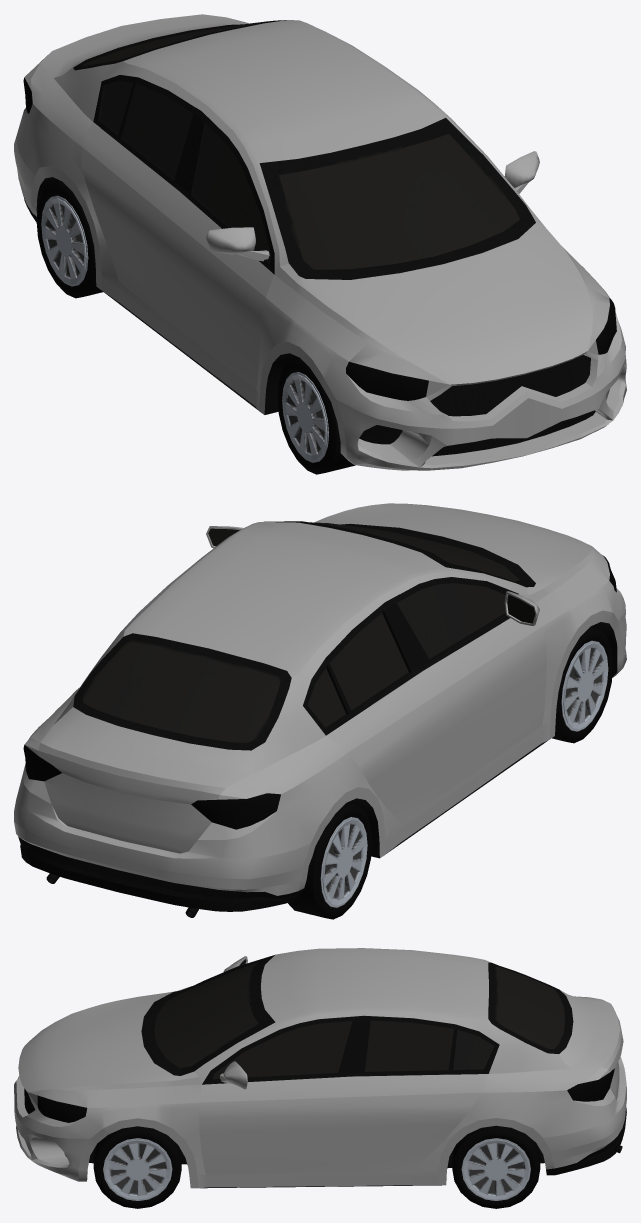
The model's file is Egee.fbx.
3 views of the same model, one above another, from view 1: azimuth 30°, elevation 25°; view 2: azimuth 150°, elevation 25°; view 3: azimuth 270°, elevation 25° (orthographic). The views are drawn at different scales.
Visible parts, largest first — view 1: polySurface7z, pCylinder2z, pCylinder1z; view 2: polySurface7z, pCylinder1z, pCylinder2z; view 3: polySurface7z, pCylinder4z, pCylinder3z.
Boxes of the visible parts, x1,y1,x2,y2 form: polySurface7z: (14, 14, 626, 470); pCylinder2z: (277, 358, 355, 474); pCylinder1z: (36, 181, 102, 298); polySurface7z: (14, 503, 626, 917); pCylinder1z: (288, 802, 372, 919); pCylinder2z: (552, 627, 613, 743); polySurface7z: (14, 948, 626, 1188); pCylinder4z: (452, 1125, 540, 1208); pCylinder3z: (93, 1126, 181, 1208).
Size of the model in its own units: 20.07 by 14.24 by 43.07.
